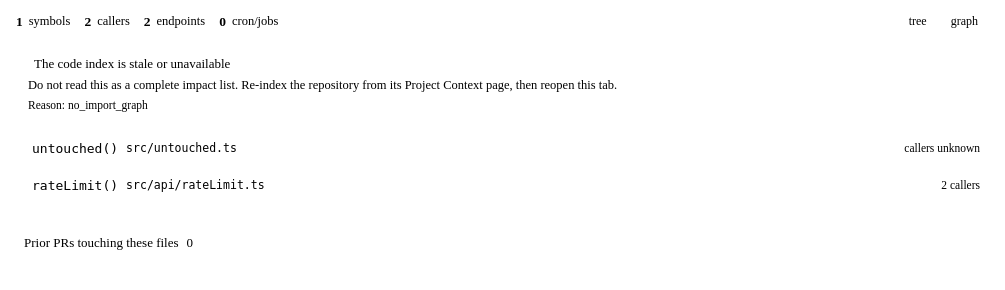
a caller count says only what the index can support › explains the unknown inside the expanded row too
The image size is (1005, 290).
Click the button "untouched() src/untouched.ts callers unknown": {"x": 67, "y": 148} left=16, top=135, right=988, bottom=162
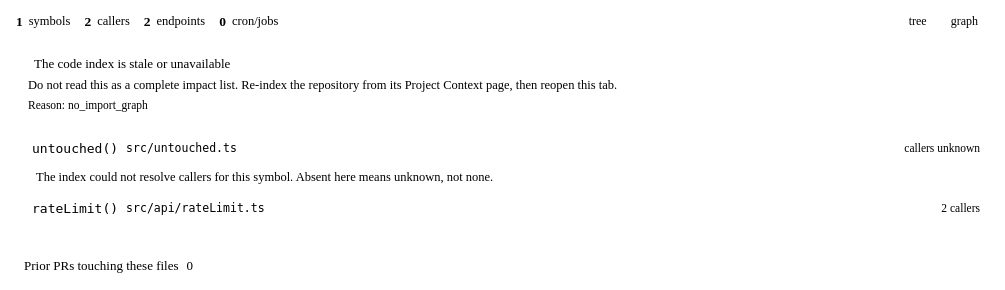
Result: the text "Absent here means unknown, not none" is shown at left=36, top=170, right=493, bottom=184
